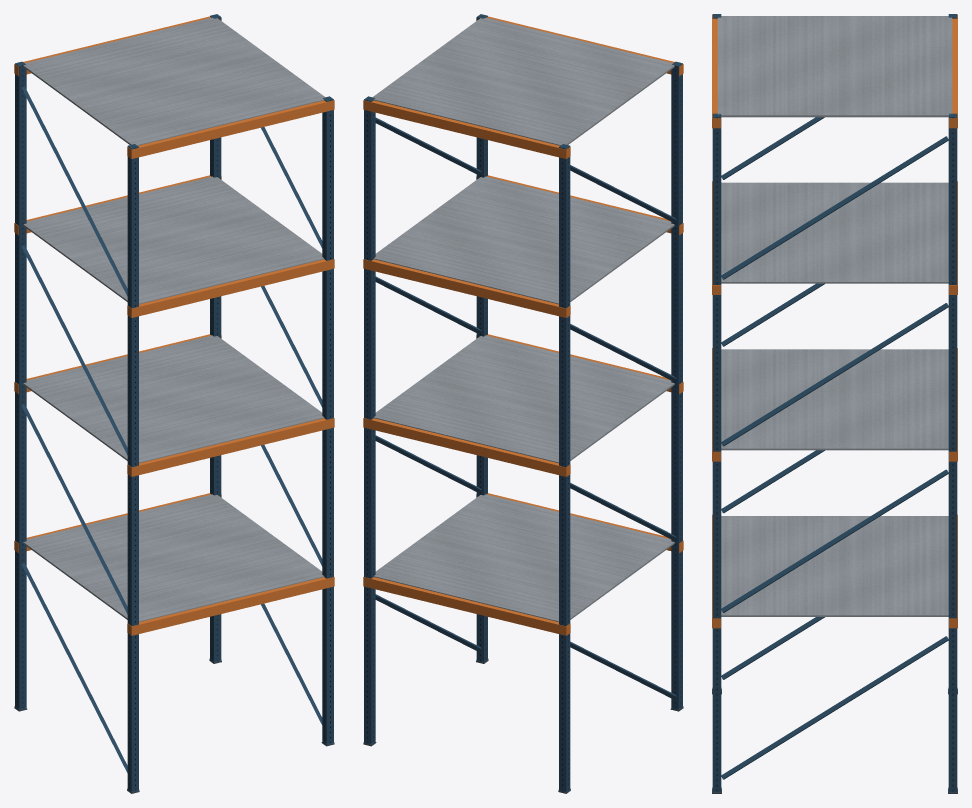
The model's file is storage-rack-4-tier.glb.
3 renders of one model, left to right at view 1: azimuth 30°, elevation 25°; view 2: azimuth 150°, elevation 25°; view 3: azimuth 270°, elevation 25°, orthographic. The views are drawn at different scales.
Parts seen in each view (by area): view 1: storage-deck-4, storage-deck-3, storage-deck-1, storage-deck-2, rack-upright--1200-1200, rack-upright--1200--1200, rack-upright-1200--1200, rack-diagonal-brace (×4), rack-beam-2--1205, rack-beam-4--1205, rack-beam-3--1205, rack-beam-1--1205 (+1 smaller); view 2: storage-deck-4, storage-deck-3, storage-deck-1, storage-deck-2, rack-upright--1200--1200, rack-upright--1200-1200, rack-upright-1200-1200, rack-diagonal-brace (×8), rack-beam-2-1205, rack-beam-4-1205, rack-beam-3-1205, rack-beam-1-1205 (+1 smaller); view 3: storage-deck-4, storage-deck-2, storage-deck-3, storage-deck-1, rack-diagonal-brace (×8), rack-upright-1200-1200, rack-upright-1200--1200, rack-beam-4--1205, rack-beam-4-1205.
Boxes of the visible parts, x1,y1,x2,y2 form: storage-deck-4: [23, 17, 324, 145]; storage-deck-3: [23, 176, 324, 304]; storage-deck-1: [23, 494, 324, 621]; storage-deck-2: [23, 335, 324, 463]; rack-upright--1200-1200: [15, 61, 26, 708]; rack-upright--1200--1200: [127, 144, 138, 791]; rack-upright-1200--1200: [322, 96, 333, 743]; rack-diagonal-brace (×4): [21, 86, 127, 772]; rack-beam-2--1205: [127, 418, 334, 476]; rack-beam-4--1205: [127, 100, 334, 159]; rack-beam-3--1205: [127, 259, 334, 317]; rack-beam-1--1205: [127, 577, 334, 635]; storage-deck-4: [373, 17, 674, 145]; storage-deck-3: [373, 176, 674, 304]; storage-deck-1: [373, 494, 674, 621]; storage-deck-2: [373, 335, 674, 463]; rack-upright--1200--1200: [671, 61, 682, 708]; rack-upright--1200-1200: [559, 144, 570, 791]; rack-upright-1200-1200: [364, 96, 375, 743]; rack-diagonal-brace (×8): [375, 117, 676, 699]; rack-beam-2-1205: [363, 418, 570, 476]; rack-beam-4-1205: [363, 100, 570, 159]; rack-beam-3-1205: [363, 259, 570, 317]; rack-beam-1-1205: [363, 577, 570, 635]; storage-deck-4: [717, 16, 952, 117]; storage-deck-2: [721, 349, 948, 450]; storage-deck-3: [721, 182, 948, 283]; storage-deck-1: [721, 516, 948, 616]; rack-diagonal-brace (×8): [721, 117, 948, 779]; rack-upright-1200-1200: [948, 113, 957, 791]; rack-upright-1200--1200: [712, 113, 721, 791]; rack-beam-4--1205: [712, 14, 720, 128]; rack-beam-4-1205: [949, 14, 957, 128].
Bounding box in the file's own units: 2.5 × 7.59 × 2.5.
6 materials, 2 textured.
